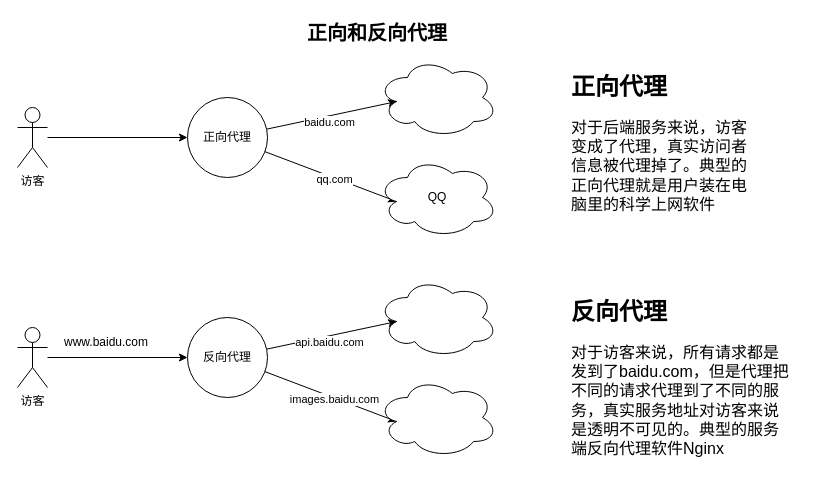
Image size: 814x484. Some labels were removed from this diagram. The centre of each missing label's shape, as x and y in pixels:
API Service: the point at 437,317
Static Images: the point at 437,417
百度: the point at 437,97
